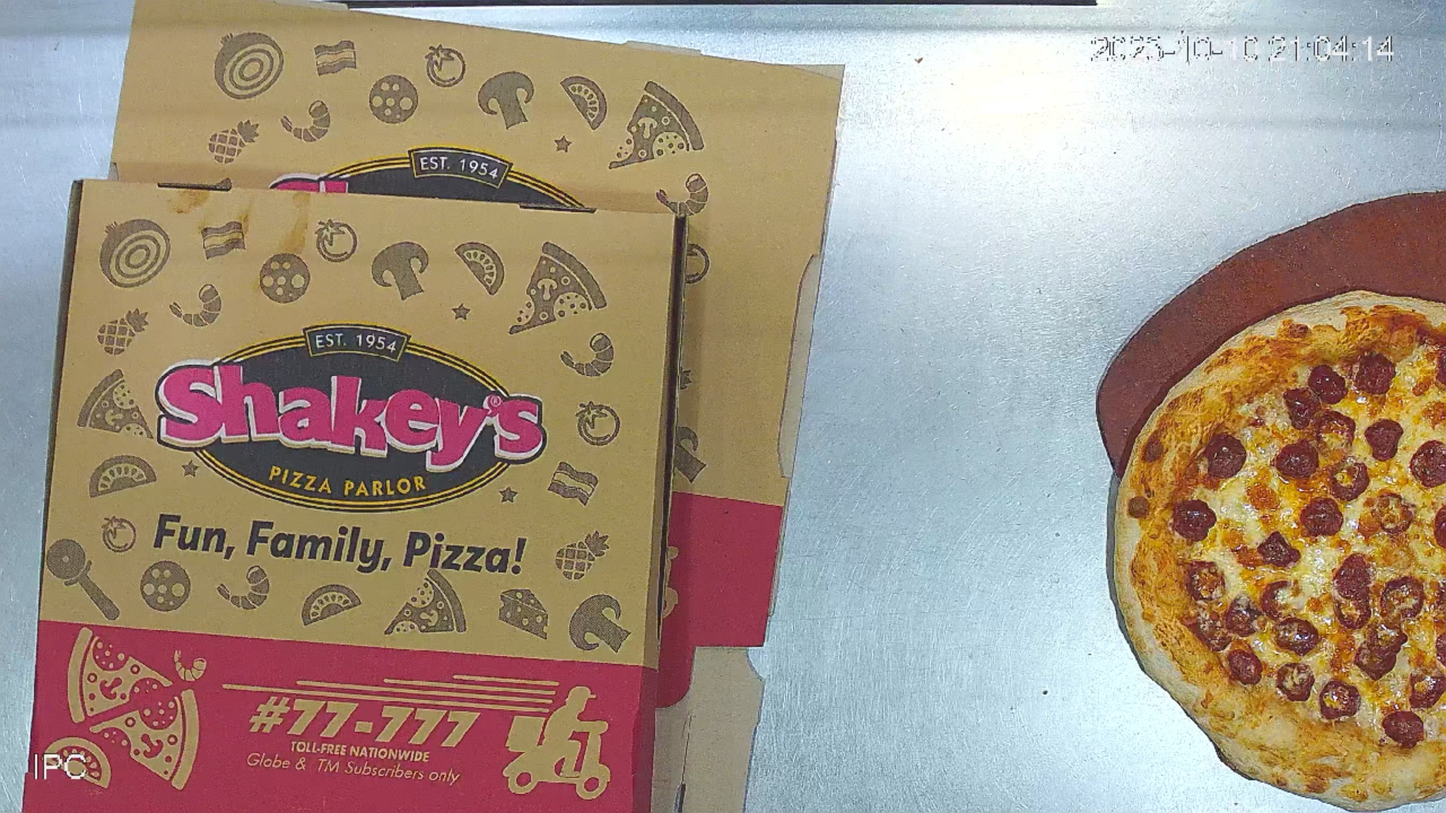pepperoni: (1111, 288, 1446, 809)
